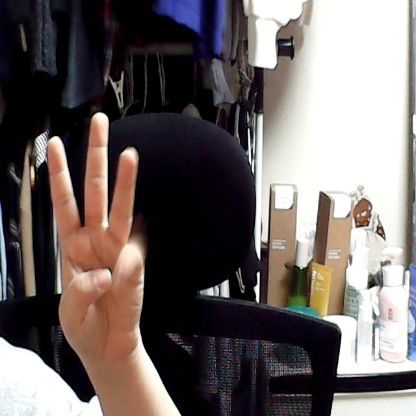Finger_3: (35, 104, 167, 353)
